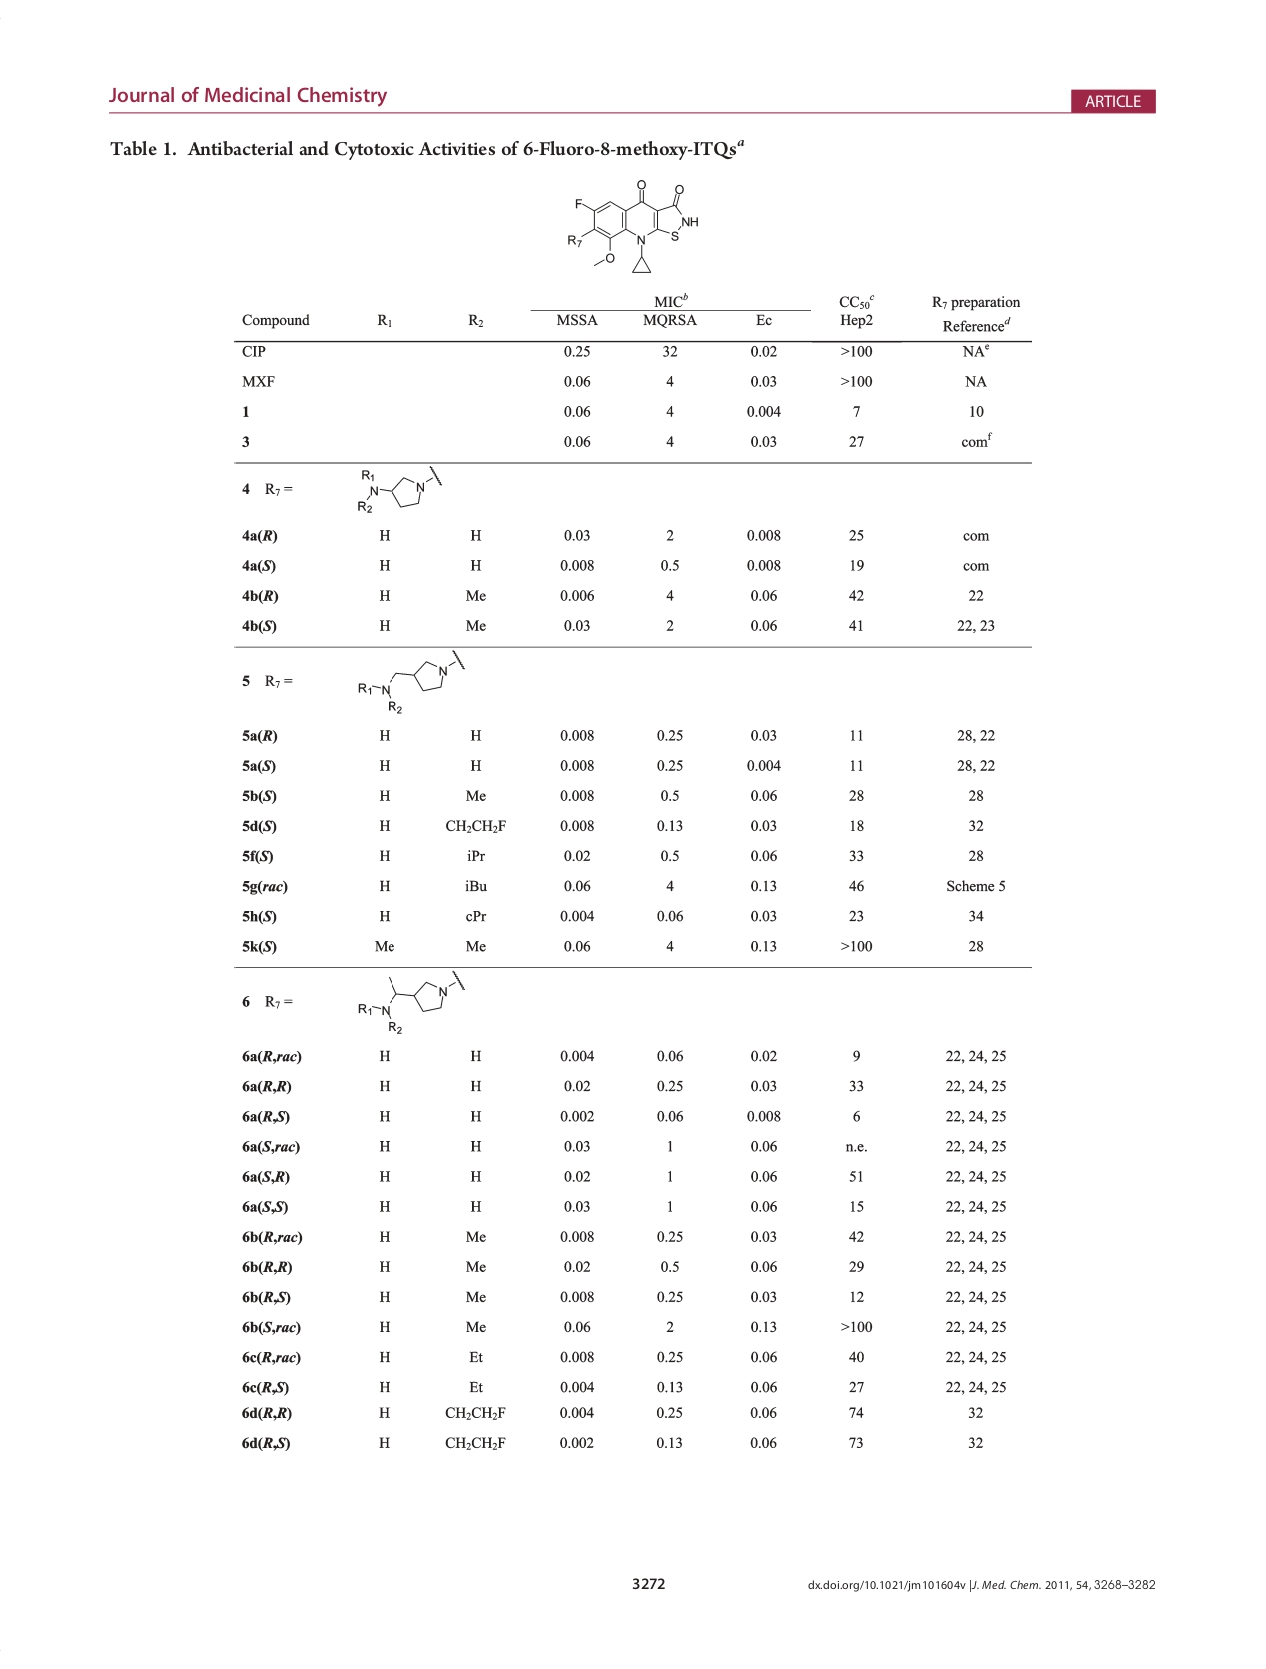exist_molecular: (561, 174, 702, 278), (355, 965, 465, 1037), (356, 650, 465, 715), (352, 465, 443, 517)
